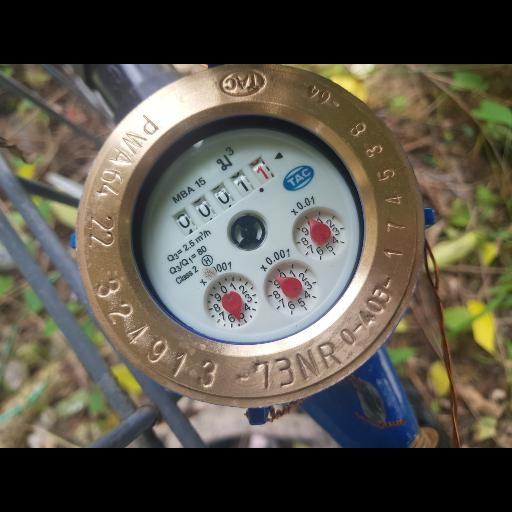0: (172, 208, 198, 237), (191, 195, 217, 224), (211, 182, 237, 210)
1: (230, 168, 257, 198), (249, 157, 275, 185)
border_water_meter_number: (168, 153, 278, 241)
